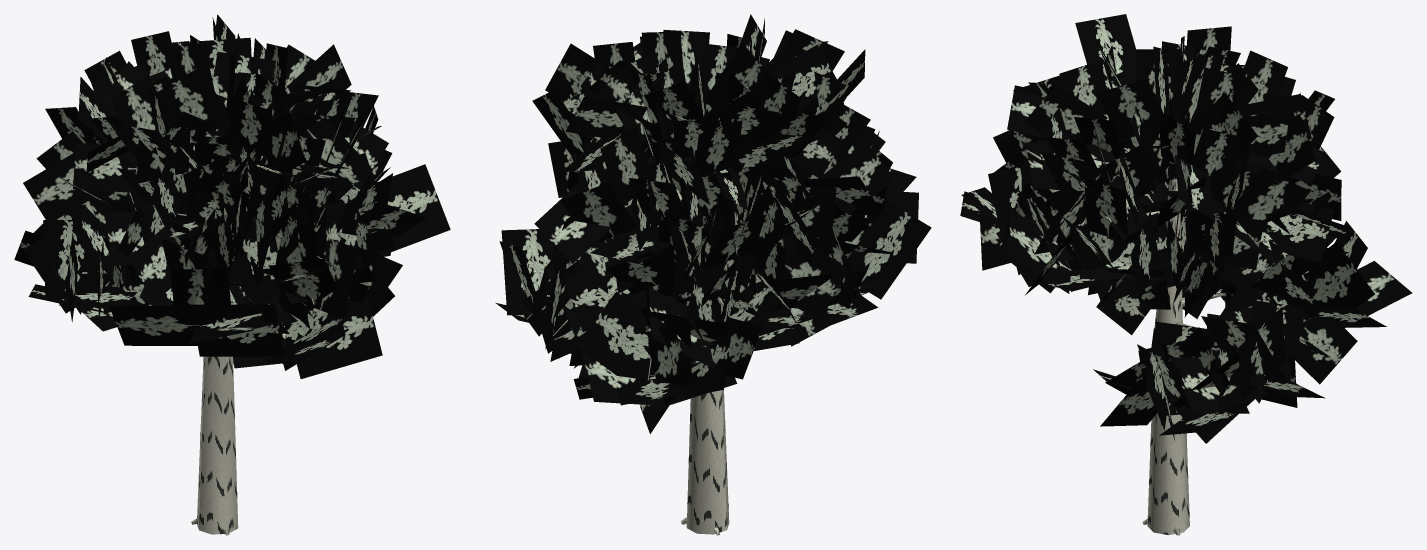
Rendered from birch_b.glb.
3 views of the same model, side by side, from view 1: azimuth 30°, elevation 25°; view 2: azimuth 150°, elevation 25°; view 3: azimuth 270°, elevation 25° (orthographic). The views are drawn at different scales.
Visible parts, largest first — view 1: birch_b; view 2: birch_b; view 3: birch_b.
Boxes of the visible parts, x1=… form: birch_b: x1=14, y1=14, x2=450, y2=535; birch_b: x1=495, y1=14, x2=931, y2=535; birch_b: x1=960, y1=14, x2=1412, y2=535.
Size of the model in its own units: 1.42 by 1.73 by 1.51.
1 material, 1 textured.
